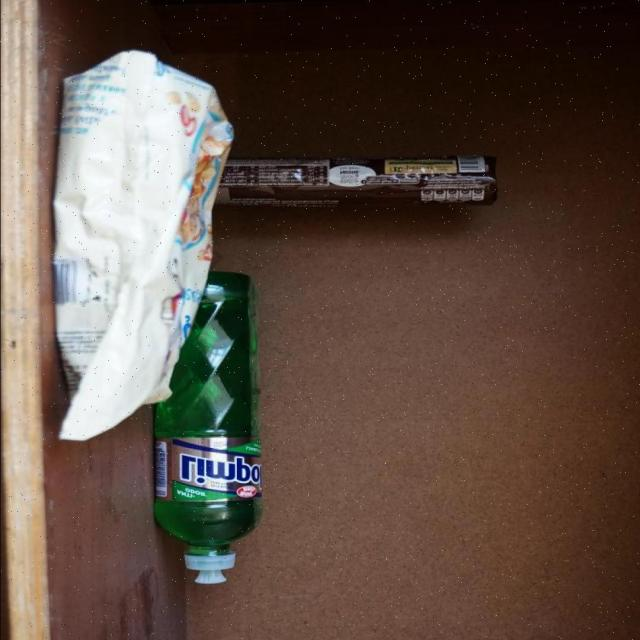Cleaner: (150, 270, 261, 583)
Cookies: (212, 156, 496, 206)
CornFlakes: (49, 48, 232, 443)
